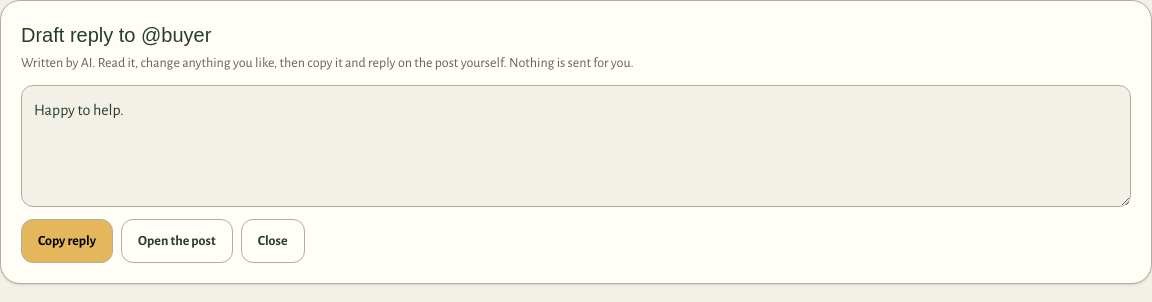
Scenario: ReplyDraftPanel › keeps the draft editable and copies the edited text
Check: the text "Nothing is sent for you" is shown, box [21,56,634,70]
Replace the text in the text box named "Draft reply" with "Happy to help, Sam.". click: (576, 146)
box: [21,85,1131,207]
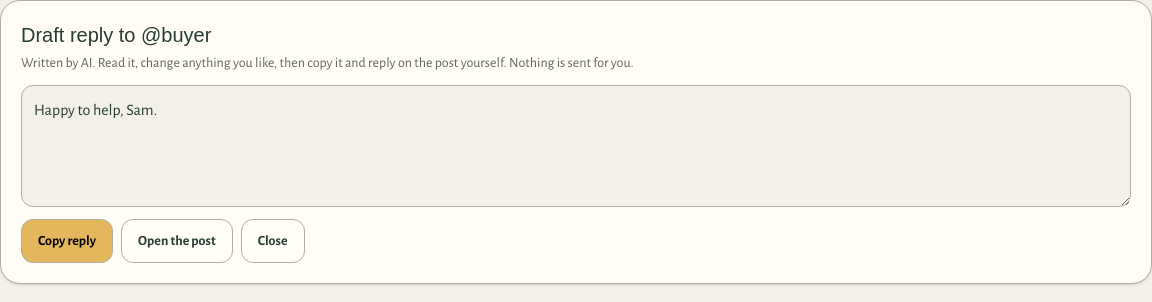
Click the button "Copy reply". click: click(67, 241)
box: [21,219,113,263]
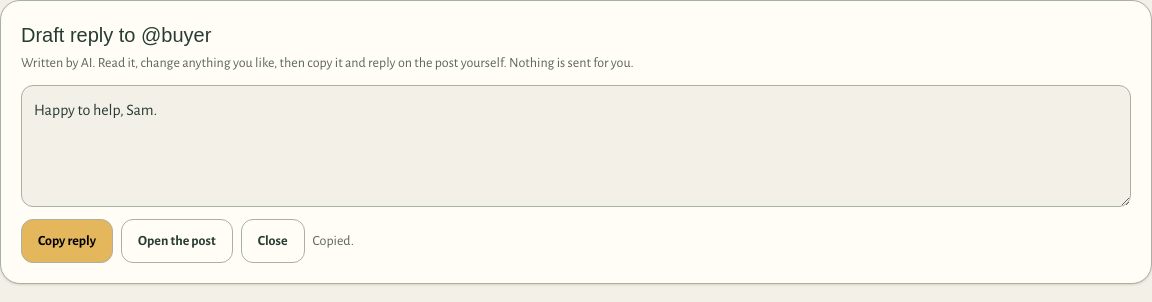
Check: the text "Copied." is shown, box [312,231,354,251]
